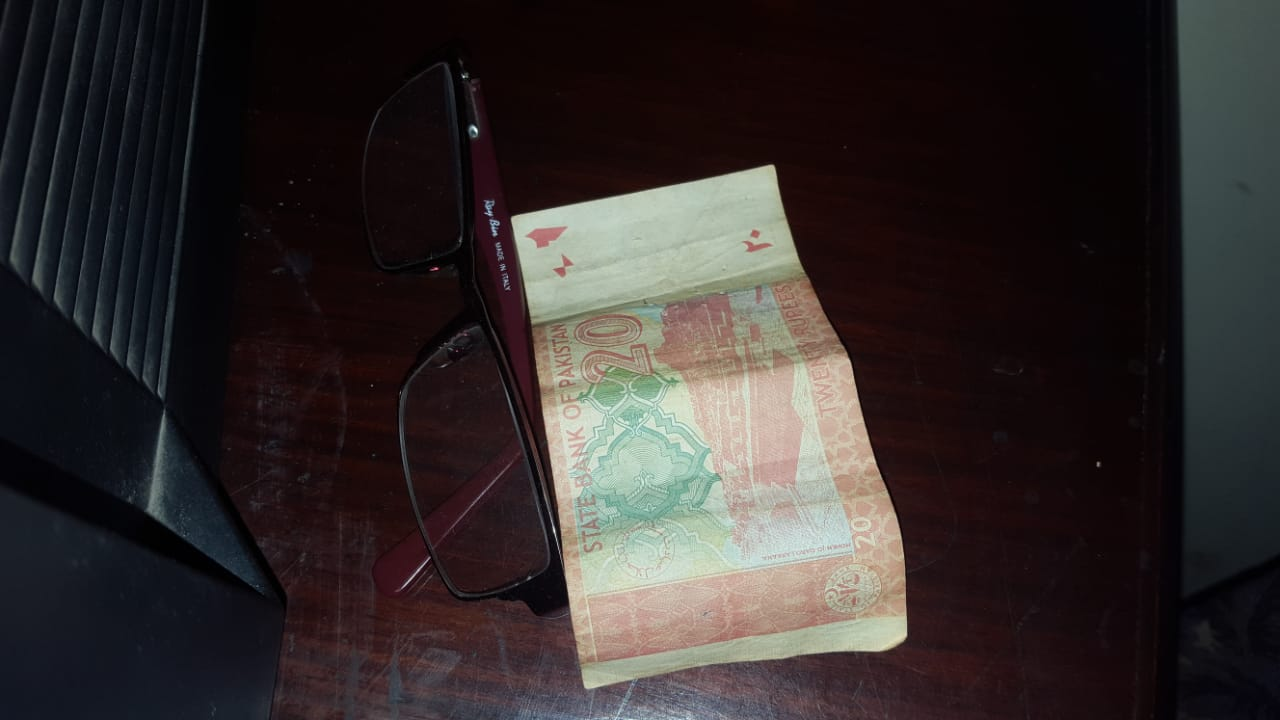20 rupee: (480, 132, 927, 692)
